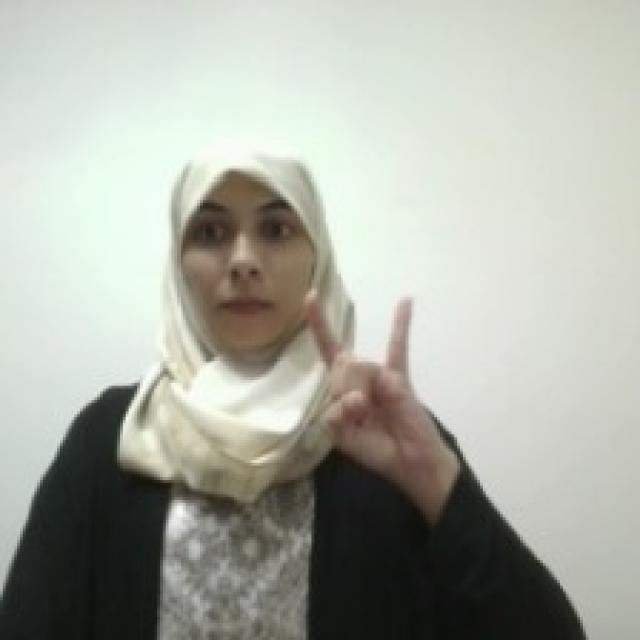No: (301, 286, 427, 477)
